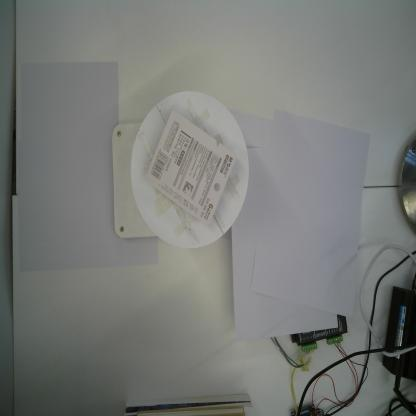Stationery: (144, 110, 236, 227)
